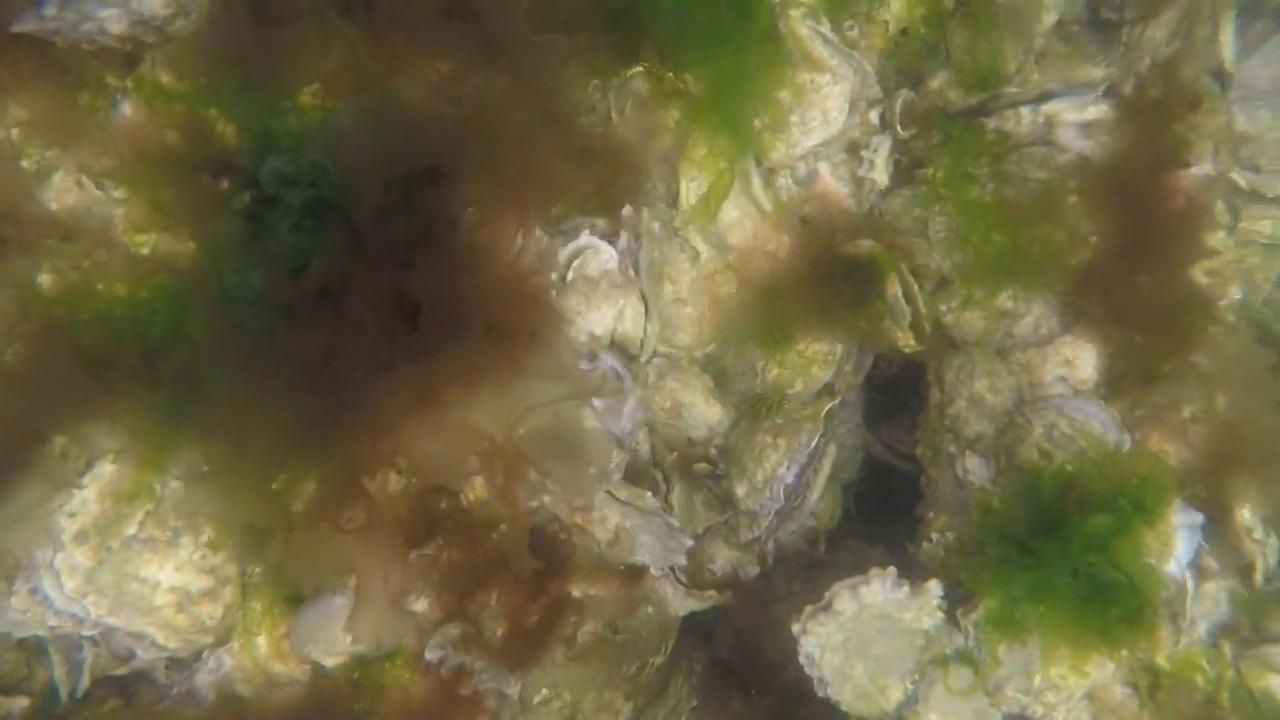Oyster: (599, 301, 877, 584), (18, 450, 247, 663), (630, 158, 846, 366), (506, 376, 701, 587), (898, 125, 1075, 297), (792, 565, 969, 712), (791, 566, 955, 716), (481, 608, 685, 720), (718, 372, 849, 526), (928, 338, 1070, 480), (923, 257, 1097, 368), (31, 161, 203, 265), (962, 633, 1130, 720), (1, 546, 116, 673), (784, 14, 884, 154), (550, 227, 648, 361), (9, 0, 197, 56), (509, 402, 617, 486), (638, 356, 730, 452), (594, 493, 699, 573), (1018, 326, 1107, 395), (866, 412, 927, 474)
